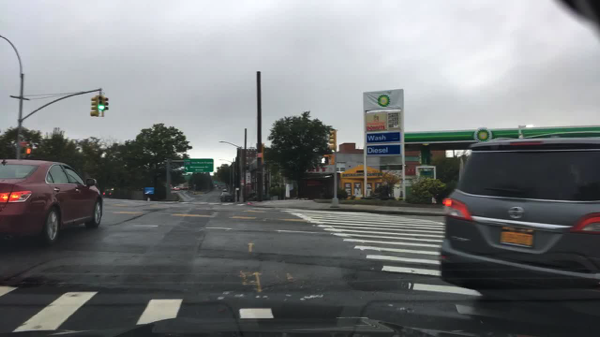car: (439, 136, 599, 311), (0, 159, 103, 250), (220, 194, 234, 203), (103, 189, 113, 198), (220, 192, 229, 197), (169, 186, 176, 191), (187, 185, 192, 191), (213, 184, 218, 190), (221, 189, 228, 192), (175, 187, 180, 191), (180, 187, 186, 190)
traffic light: (90, 97, 98, 117), (329, 129, 336, 151), (320, 155, 330, 166), (99, 93, 103, 111), (104, 97, 108, 111), (26, 147, 32, 154)
traffic sign: (183, 159, 213, 171), (19, 141, 31, 146), (183, 174, 192, 180)
